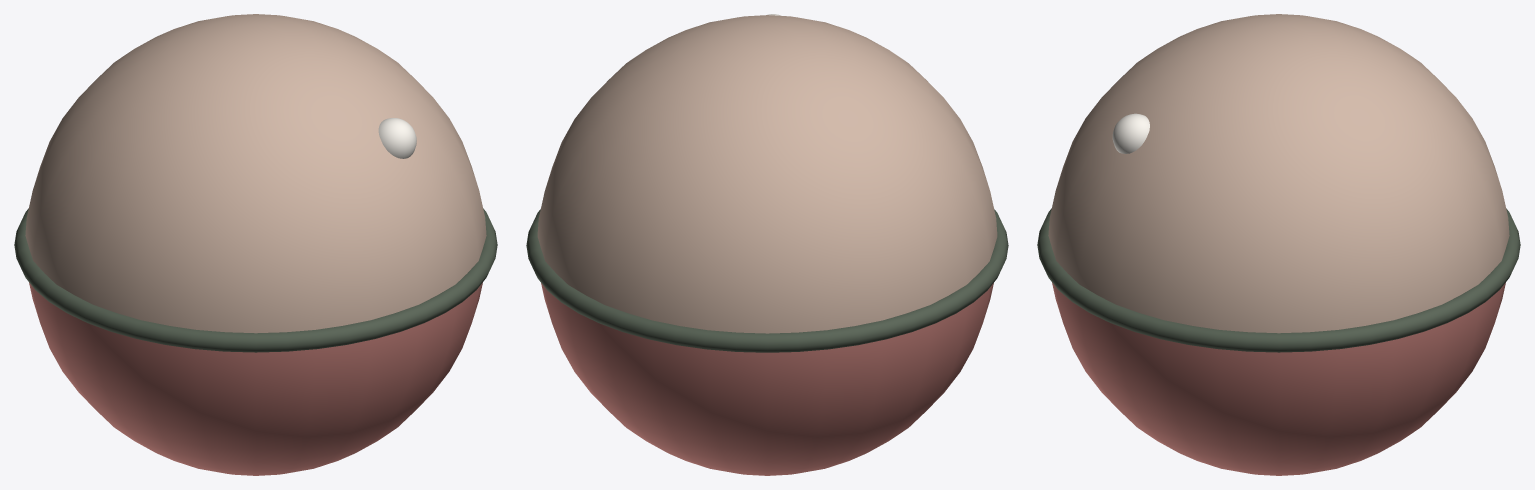
File: hopper-ball-4.glb
The picture shows the model from 3 angles, left to right: view 1: azimuth 30°, elevation 25°; view 2: azimuth 150°, elevation 25°; view 3: azimuth 270°, elevation 25°; orthographic projection.
Visible parts, largest first — view 1: HopperBall4_Batch0, HopperBall4_Batch1; view 2: HopperBall4_Batch0, HopperBall4_Batch1; view 3: HopperBall4_Batch0, HopperBall4_Batch1.
Boxes of the visible parts, x1,y1,x2,y2 form: HopperBall4_Batch0: (25,14,486,475); HopperBall4_Batch1: (14,118,497,352); HopperBall4_Batch0: (537,15,997,475); HopperBall4_Batch1: (526,14,1008,352); HopperBall4_Batch0: (1048,14,1509,475); HopperBall4_Batch1: (1037,113,1520,352).
Size of the model in its own units: 0.037 by 0.0354 by 0.037.
